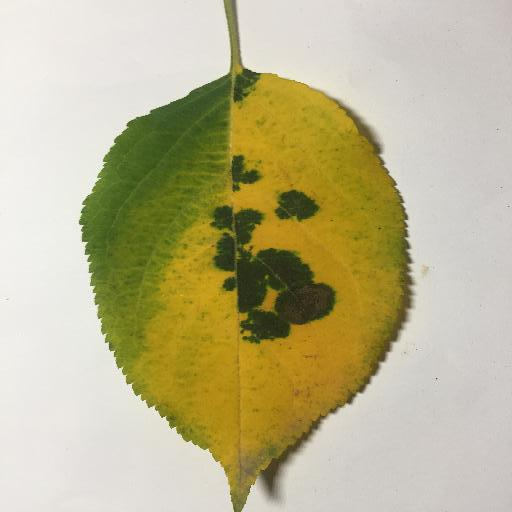Brown_Spot: (273, 289, 334, 311)
